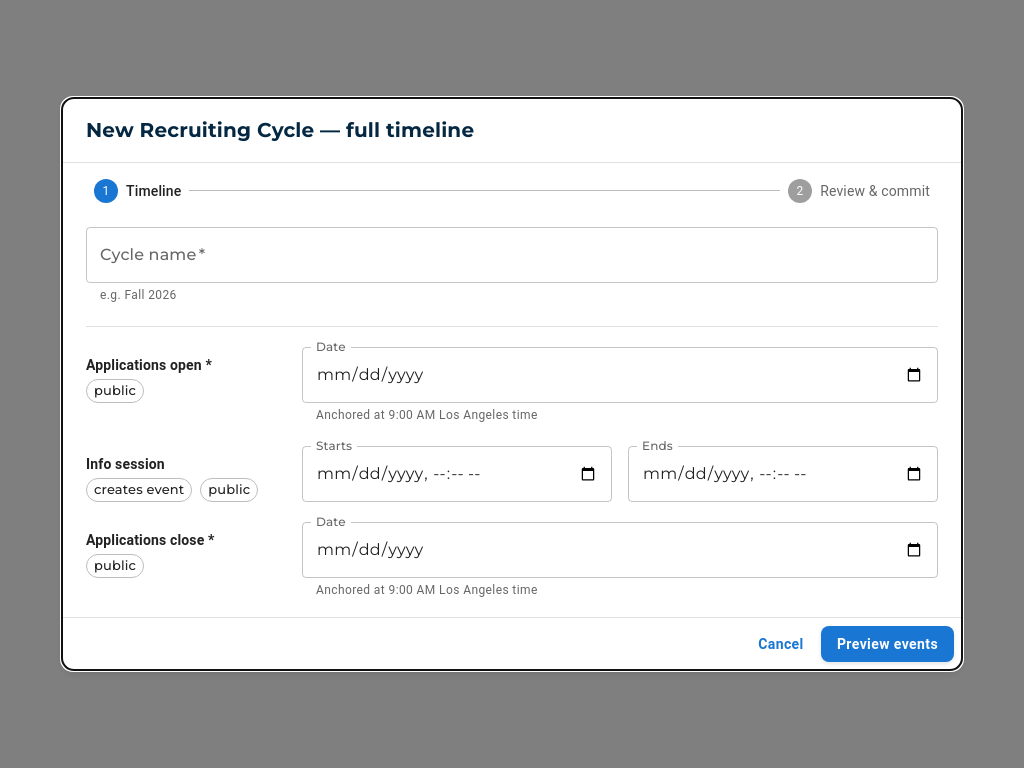
it: CycleTimelineBootstrapDialog › keeps the admin on the timeline step and marks the offending field on a validation error
Expected: the date field named "Applications open date" is shown, [302,347,938,403]
Click the button "Preview events" at (887, 644), box [821,626,954,662]
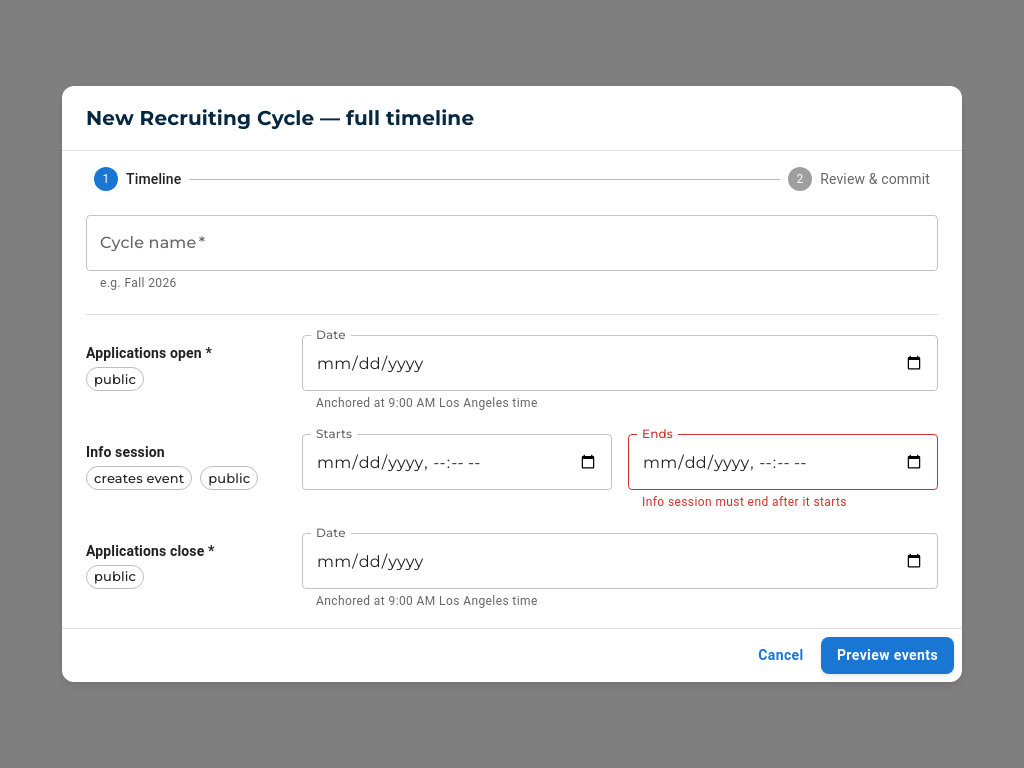
Expected: the button "Preview events" is shown, [821,637,954,674]
Now the text "Info session must end after it starts" is shown, box [642,495,847,509]
